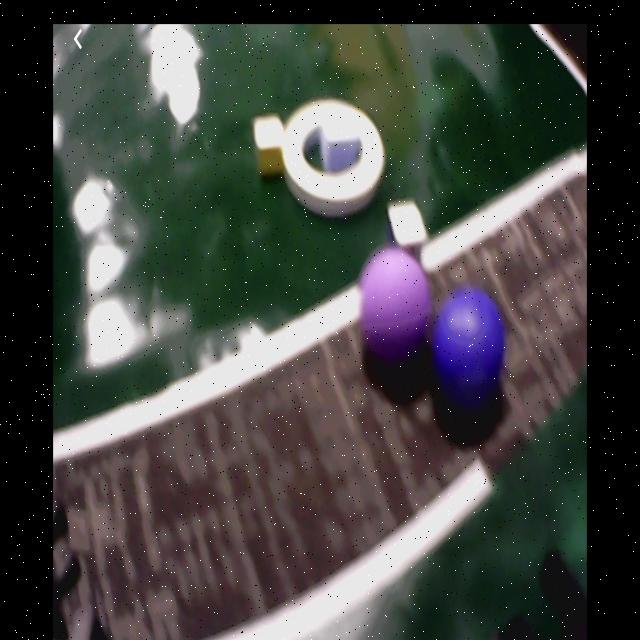ball: (433, 291, 506, 399), (359, 248, 431, 357)
